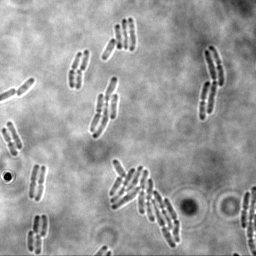Dividing: (67, 51, 82, 89), (1, 127, 19, 157), (34, 165, 48, 202), (28, 163, 40, 200), (239, 191, 250, 229)
Microcolony: (109, 157, 181, 249), (88, 75, 120, 139), (199, 44, 225, 121), (101, 17, 137, 61), (27, 213, 49, 255)
Rod: (5, 120, 24, 150), (16, 77, 35, 99), (79, 49, 90, 72), (73, 68, 83, 90)
